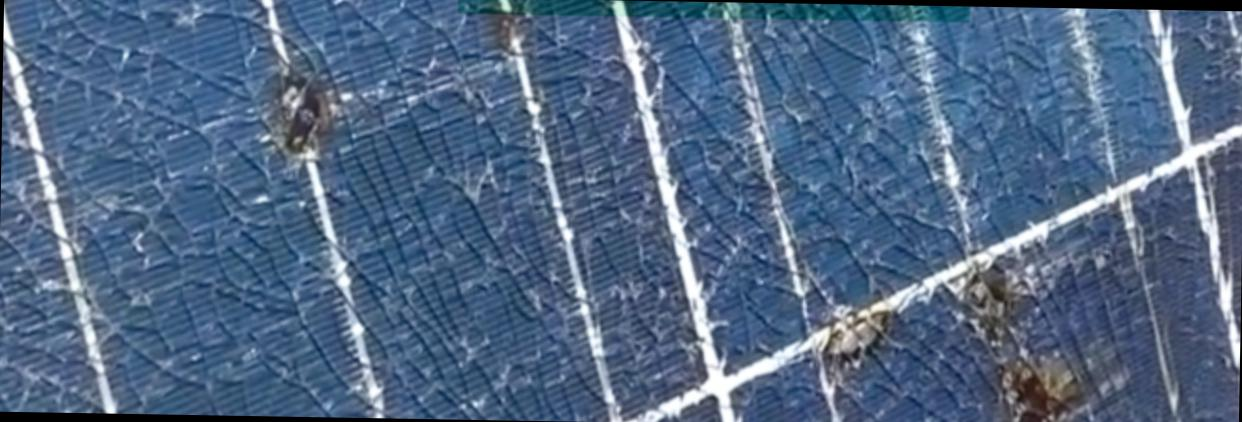Crack: (240, 52, 340, 169), (938, 244, 1044, 348), (976, 346, 1099, 421), (812, 279, 895, 382), (474, 2, 556, 66)
